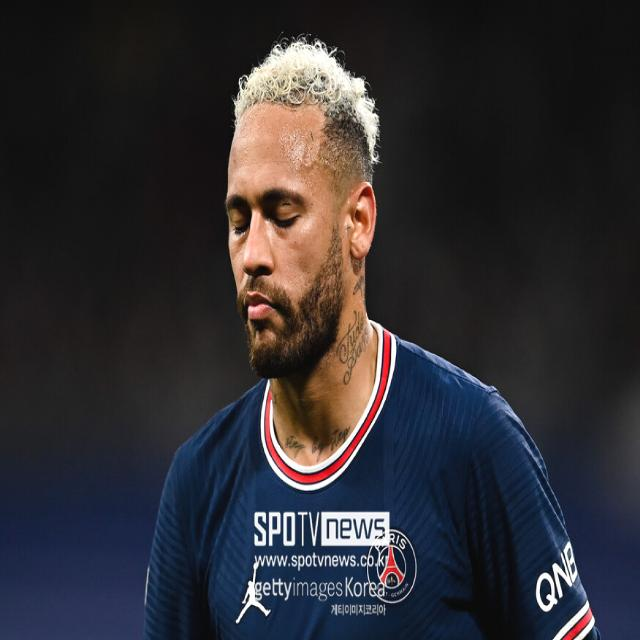neymar: (223, 53, 377, 380)
